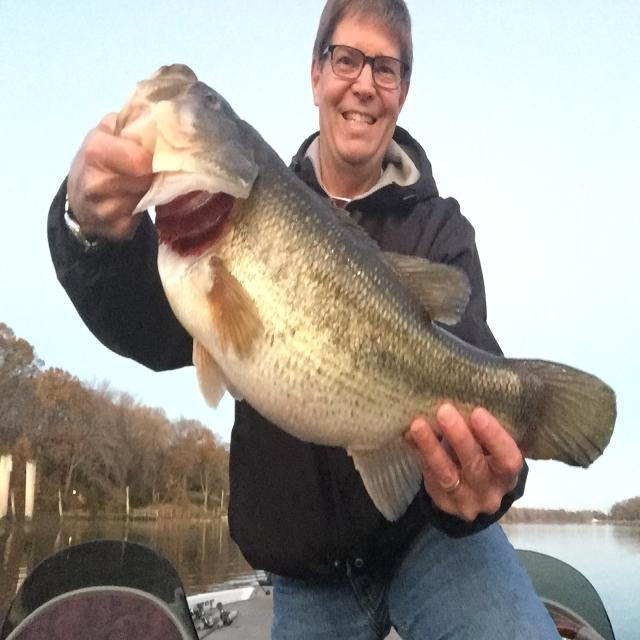Bass - Largemouth: (115, 65, 616, 521)
